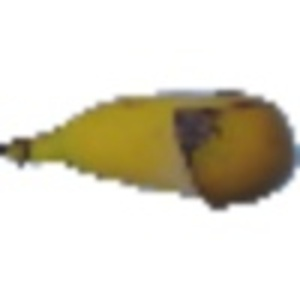banana: (1, 82, 298, 214)
